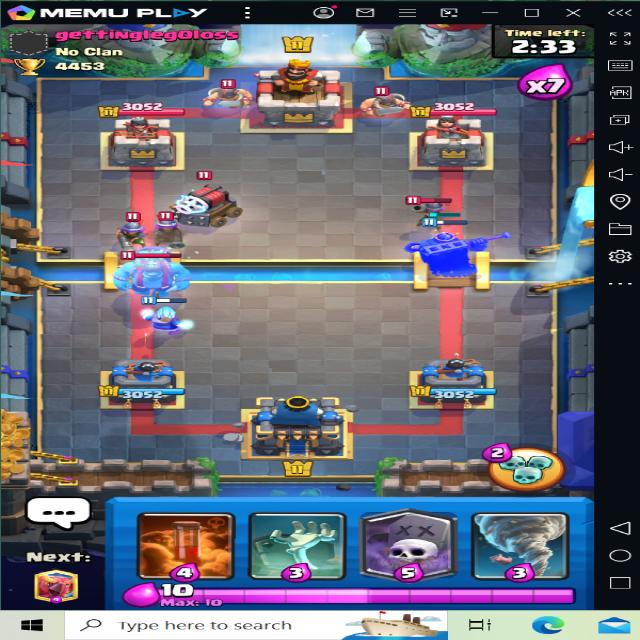Ebarbs: (362, 84, 410, 121), (205, 77, 254, 108)
Goblingiant: (117, 238, 197, 296)
Musketeer: (407, 195, 461, 237), (110, 209, 167, 247), (153, 207, 200, 248)
Sparky: (172, 170, 256, 227)
